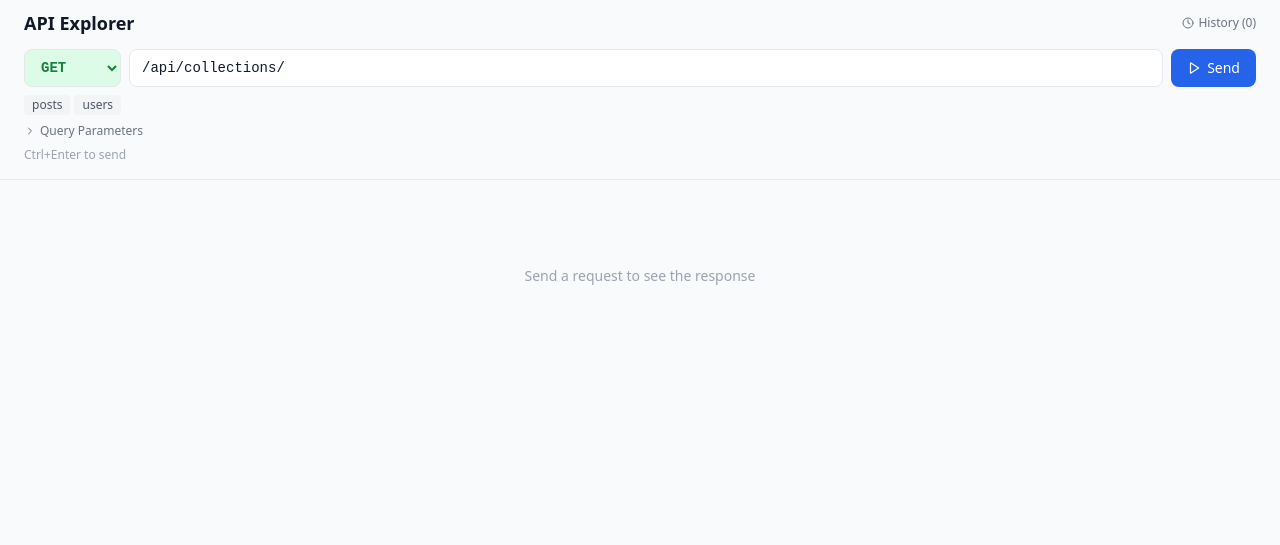
ApiExplorer › executes request and displays response
# Set a path
Replace the text in the field named "Request path" with "/api/collections/posts" at x=646, y=68, box [129,49,1163,87]
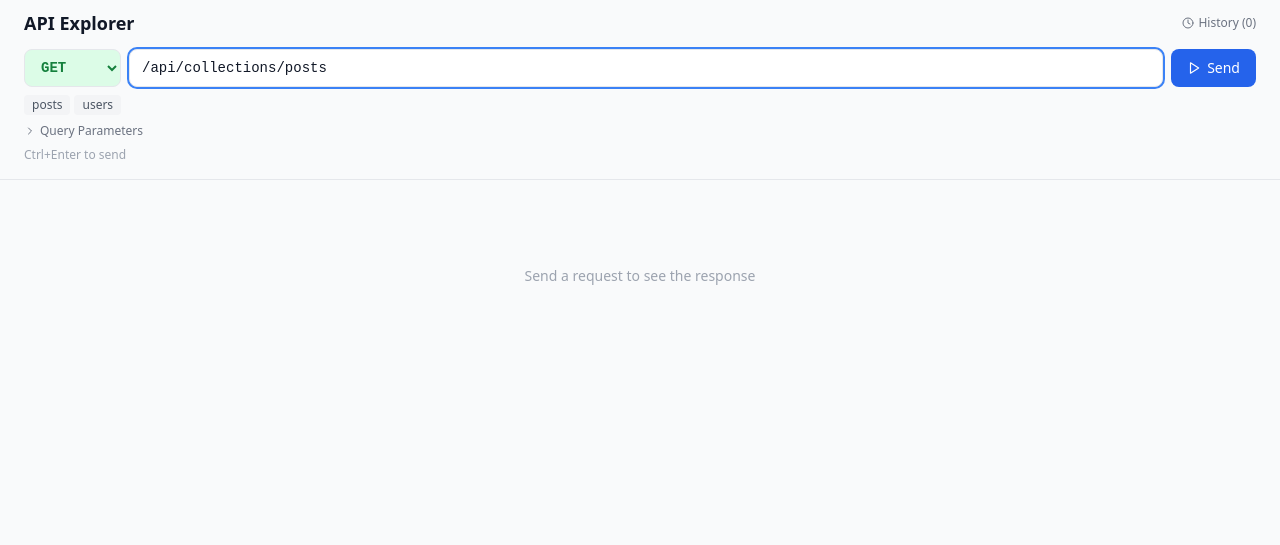
Click the button "Send" at x=1214, y=68, box [1171,49,1256,87]
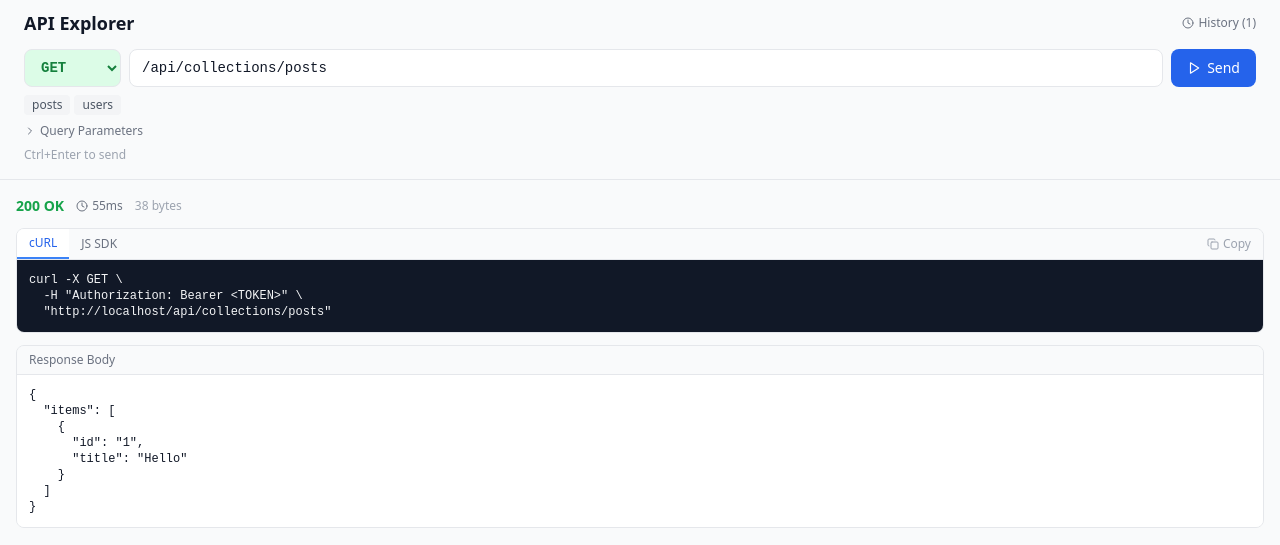
Now the text "200 OK" is shown, box [16,196,64,216]
Now the text "55ms" is shown, box [76,198,123,214]
